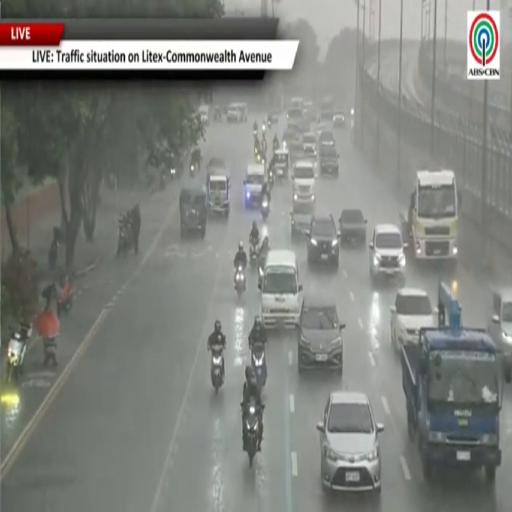car: (317, 391, 383, 492), (297, 297, 345, 373), (390, 288, 435, 350), (369, 224, 407, 282), (487, 287, 511, 377), (306, 215, 339, 267), (180, 186, 207, 238), (292, 160, 315, 206), (340, 208, 367, 245), (291, 203, 314, 239), (319, 146, 339, 177), (303, 133, 317, 158), (207, 157, 227, 173), (319, 131, 335, 146), (287, 107, 303, 122), (198, 105, 209, 125), (319, 109, 333, 123), (333, 110, 345, 126), (316, 123, 329, 137)
motorcycle: (245, 402, 264, 467), (5, 332, 28, 382), (251, 342, 267, 388), (117, 217, 133, 255), (211, 347, 224, 393), (57, 281, 74, 316), (43, 336, 56, 367), (235, 266, 245, 297), (49, 238, 58, 270), (250, 243, 258, 267), (261, 198, 269, 220), (268, 167, 275, 187), (190, 164, 196, 178), (267, 118, 272, 127), (253, 128, 257, 137)
truck: (401, 282, 503, 481), (401, 170, 460, 263)
